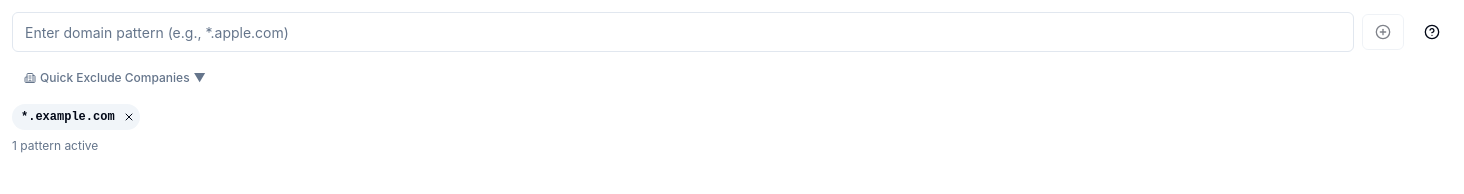
Scenario: 🧱 DomainExclusionInput Component › Pattern Validation › should reject duplicate patterns
This screenshot has width=1464, height=194.
In the field with placeholder "Enter domain pattern (e.g., *.apple.com)": (683, 32) [12, 12, 1354, 52], type "*.example.com"
Then press Enter
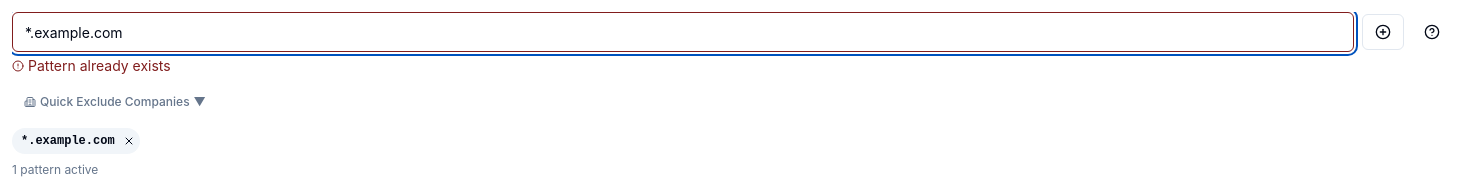
Expected: the text "Pattern already exists" is shown, [28, 56, 171, 76]
